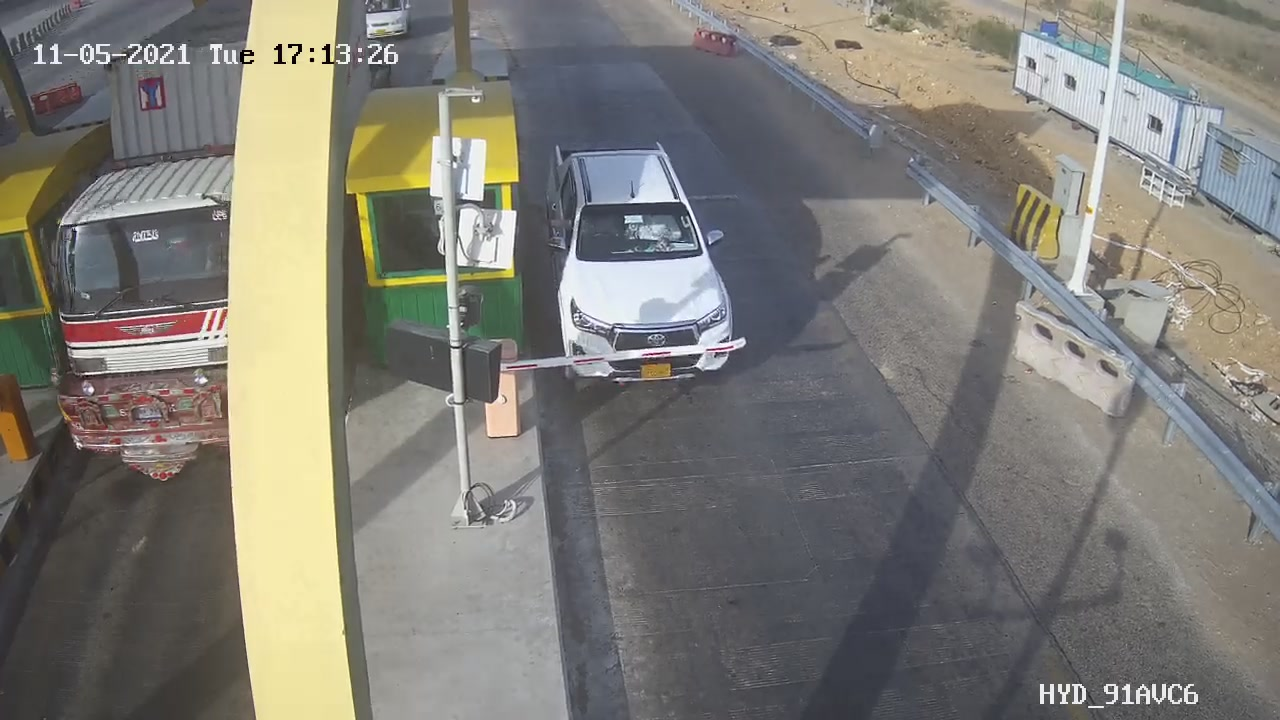F1: (520, 122, 760, 405)
